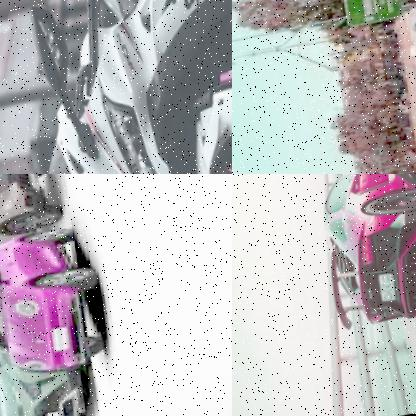bike: (9, 0, 232, 174)
car: (310, 174, 416, 341), (0, 232, 106, 389), (0, 336, 86, 416), (0, 174, 58, 256)
